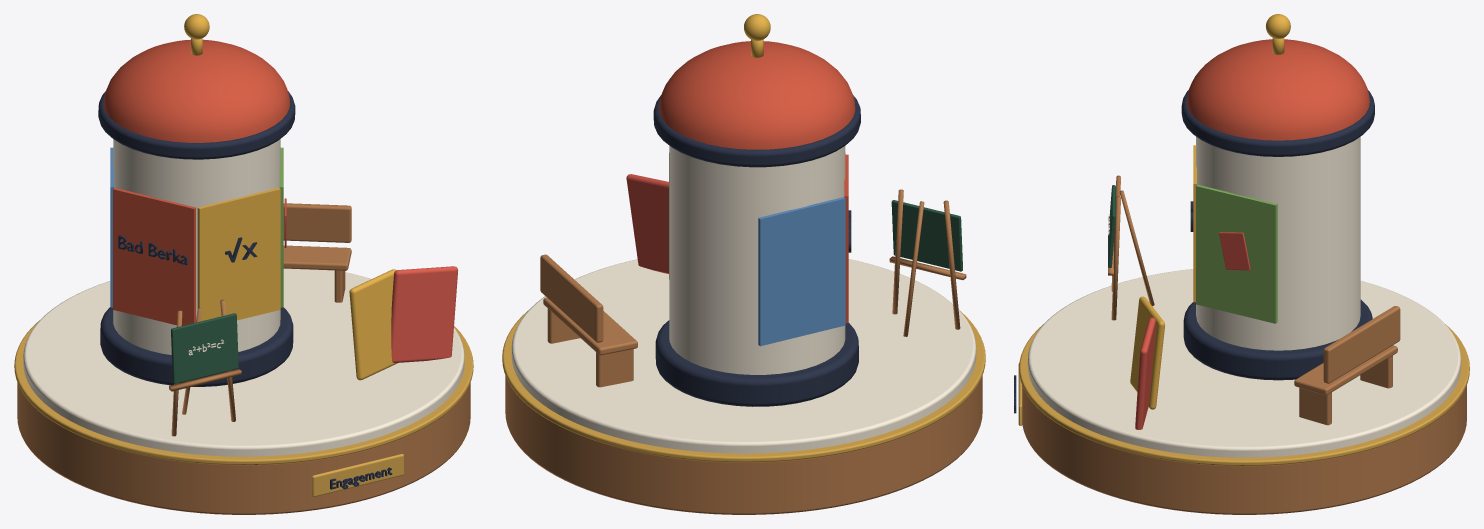
File: engagement.glb
3 renders of one model, left to right at view 1: azimuth 30°, elevation 25°; view 2: azimuth 150°, elevation 25°; view 3: azimuth 270°, elevation 25°, orthographic. The views are drawn at different scales.
Visible parts, largest first — view 1: Engagement_Deck, Engagement, Engagement_Dome, Engagement_Column, Engagement_Paper2, Engagement_Paper0, Engagement_BigCard1, Engagement_Trim, Engagement_Foot, Engagement_Bench, Engagement_BigCard0, Engagement_Board (+7 smaller); view 2: Engagement_Deck, Engagement_Column, Engagement, Engagement_Dome, Engagement_Paper3, Engagement_Foot, Engagement_Trim, Engagement_Bench, Engagement_Crown, Engagement_BigCard1, Engagement_Board, Engagement_Easel (+2 smaller); view 3: Engagement_Deck, Engagement_Column, Engagement, Engagement_Dome, Engagement_Paper1, Engagement_Bench, Engagement_Trim, Engagement_Foot, Engagement_Crown, Engagement_BigCard0, Engagement_Easel, Engagement_BigCard1 (+2 smaller).
Part boxes in pixels (x1,y1,x2,y2): Engagement_Deck: (23,268,464,456); Engagement: (17,382,470,514); Engagement_Dome: (103,39,289,142); Engagement_Column: (113,139,280,354); Engagement_Paper2: (113,188,195,325); Engagement_Paper0: (197,188,280,321); Engagement_BigCard1: (391,266,458,362); Engagement_Trim: (14,320,473,464); Engagement_Foot: (100,307,293,386); Engagement_Bench: (283,203,351,302); Engagement_BigCard0: (349,269,397,380); Engagement_Board: (171,313,238,383); Engagement_Deck: (511,259,976,453); Engagement_Column: (669,146,845,374); Engagement: (505,376,982,514); Engagement_Dome: (659,41,855,149); Engagement_Paper3: (758,197,845,346); Engagement_Foot: (655,320,858,406); Engagement_Trim: (502,310,985,462); Engagement_Bench: (540,254,637,387); Engagement_Crown: (653,95,860,167); Engagement_BigCard1: (626,174,668,273); Engagement_Board: (891,200,962,271); Engagement_Easel: (889,189,966,336); Engagement_Deck: (1027,269,1461,457); Engagement_Column: (1196,136,1360,350); Engagement: (1022,385,1466,514); Engagement_Dome: (1186,39,1369,140); Engagement_Paper1: (1196,184,1277,323); Engagement_Bench: (1294,306,1400,425); Engagement_Trim: (1019,324,1469,465); Engagement_Foot: (1183,299,1372,380); Engagement_Crown: (1181,90,1374,156); Engagement_BigCard0: (1130,296,1164,409); Engagement_Easel: (1108,175,1154,320); Engagement_BigCard1: (1135,317,1155,429).
Bounding box in the file's own units: 4.66 × 4.48 × 4.71.
